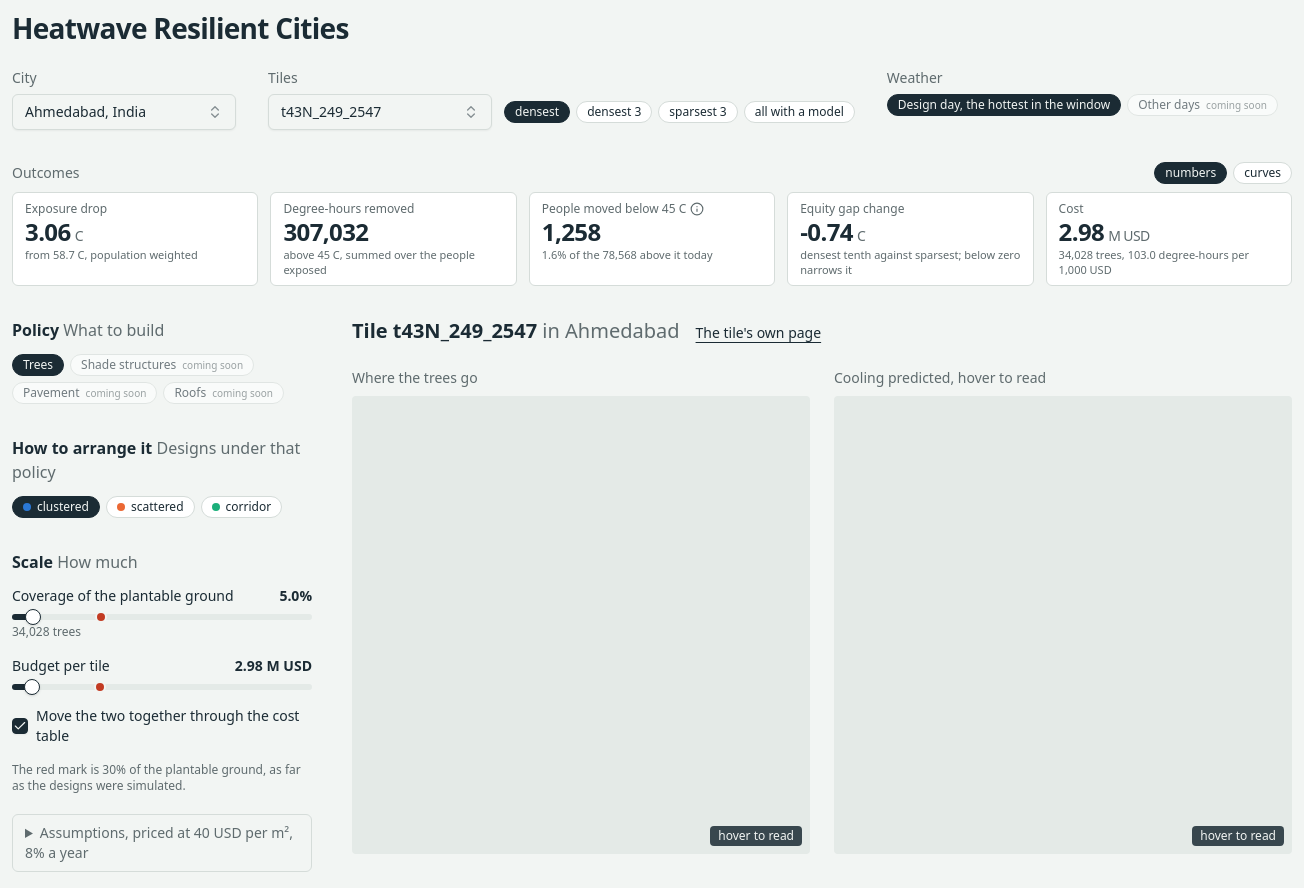
shows the curves instead of the numbers when asked, and remembers the choice
Check: the element named "Outcomes" is shown, box [12, 192, 1292, 286]
Click the button "curves" at [1263, 173], box [1233, 162, 1292, 184]
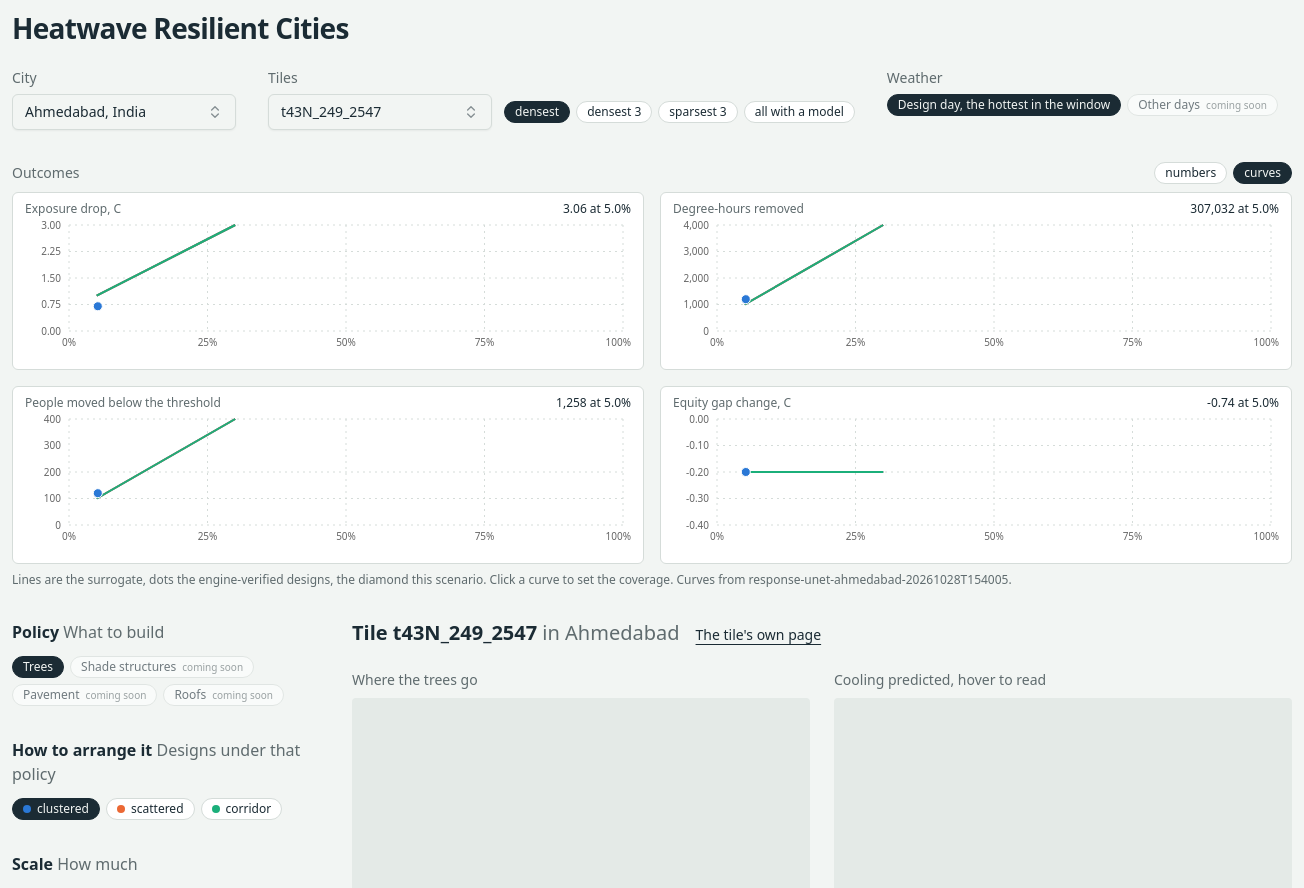
Check: the text "Degree-hours removed" is shown, box [673, 201, 804, 217]
Check: the text "3.06 at 5.0%" is shown, box [563, 201, 631, 217]
Click the button "numbers" at [1191, 173], box [1154, 162, 1227, 184]
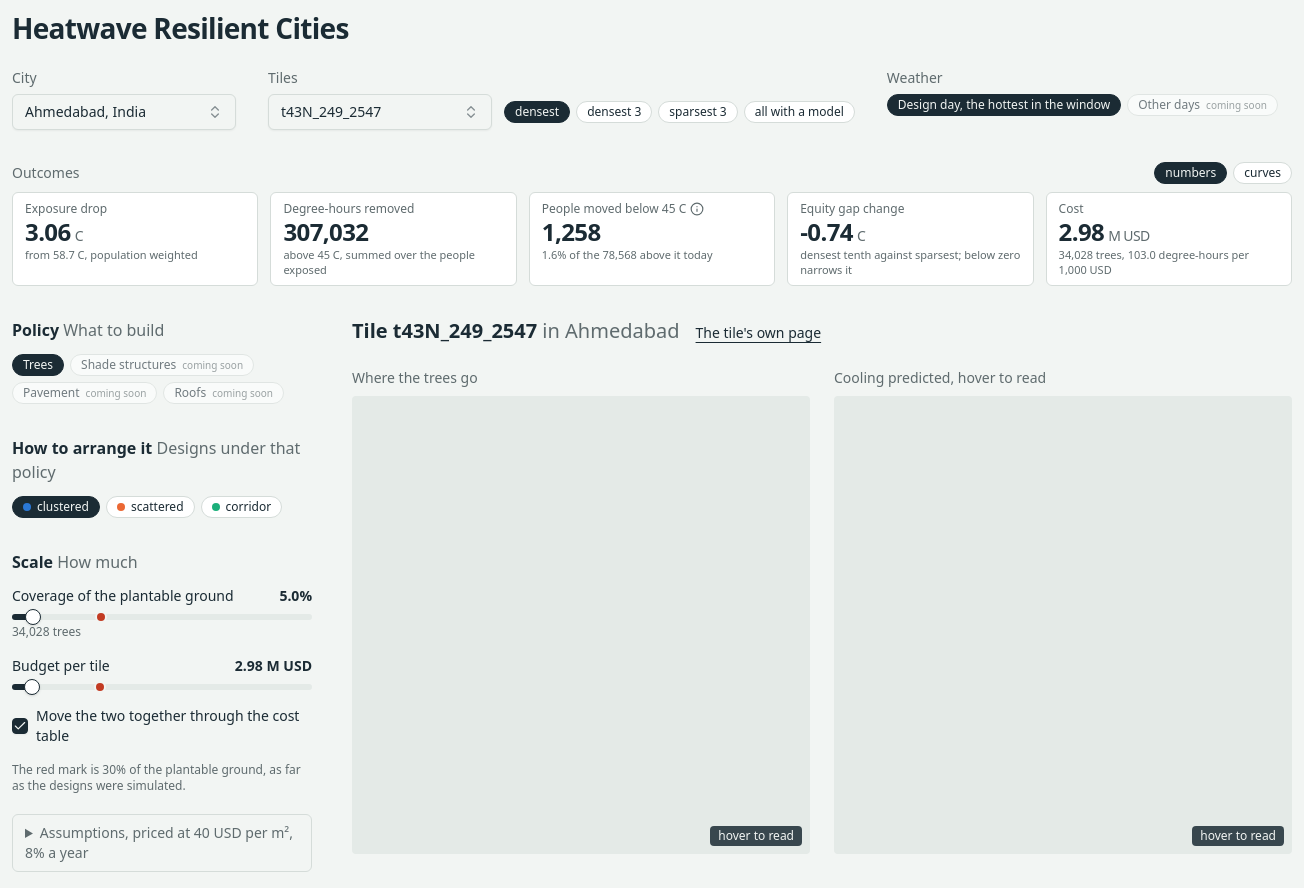
Check: the element named "Outcomes" is shown, box [12, 192, 1292, 286]
